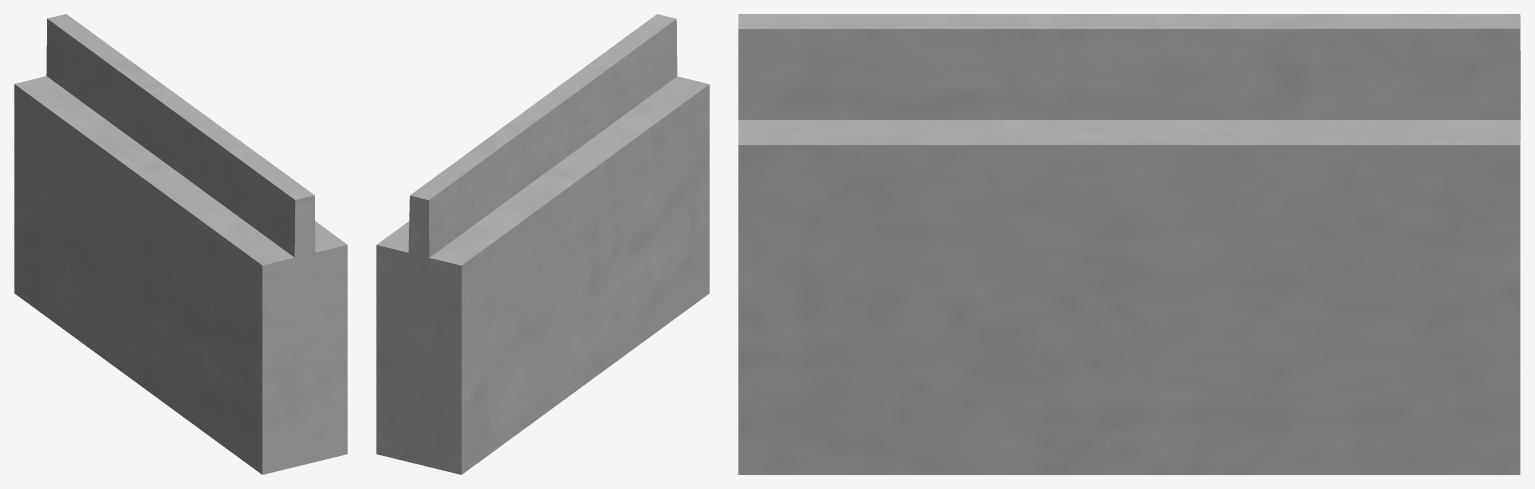
Rendered from LongStraight.fbx.
3 views of the same model, side by side, from view 1: azimuth 30°, elevation 25°; view 2: azimuth 150°, elevation 25°; view 3: azimuth 270°, elevation 25° (orthographic). The views are drawn at different scales.
Parts seen in each view (by area): view 1: StairConcreteLongStraight; view 2: StairConcreteLongStraight; view 3: StairConcreteLongStraight.
Boxes of the visible parts, bbox=[...] form: StairConcreteLongStraight: bbox=[14, 14, 347, 474]; StairConcreteLongStraight: bbox=[376, 14, 709, 474]; StairConcreteLongStraight: bbox=[738, 14, 1520, 474].
Size of what is drawn, in the model's own units: 38.14 by 114 by 192.
